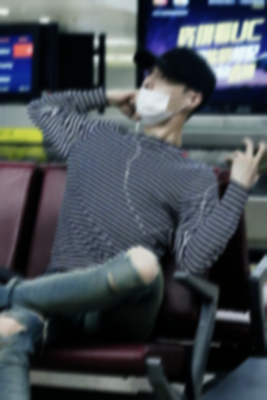mask_weared_incorrect: (136, 67, 187, 121)
